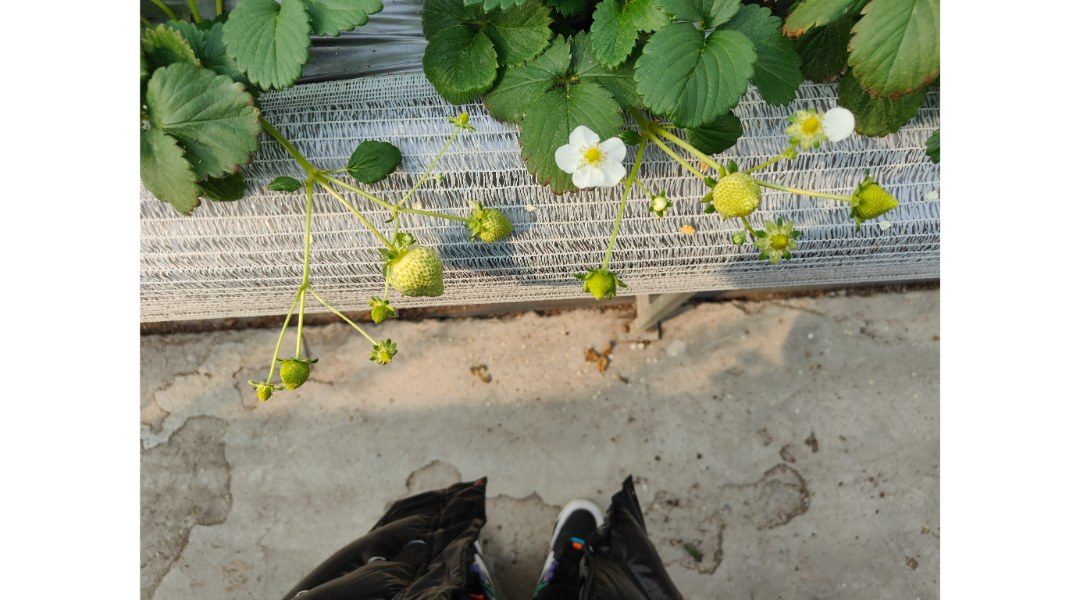berry: (379, 225, 454, 304), (703, 158, 764, 215), (457, 190, 517, 247), (840, 169, 898, 223), (567, 262, 629, 302), (755, 210, 800, 261), (270, 350, 315, 401), (357, 332, 409, 370), (246, 372, 280, 409)
flower: (558, 126, 627, 200), (795, 95, 852, 154)
strain: (603, 139, 645, 273), (403, 134, 456, 203), (313, 293, 370, 350), (265, 290, 297, 372), (323, 191, 372, 234), (332, 177, 394, 207), (300, 192, 318, 282), (770, 183, 855, 199), (298, 297, 305, 365)
